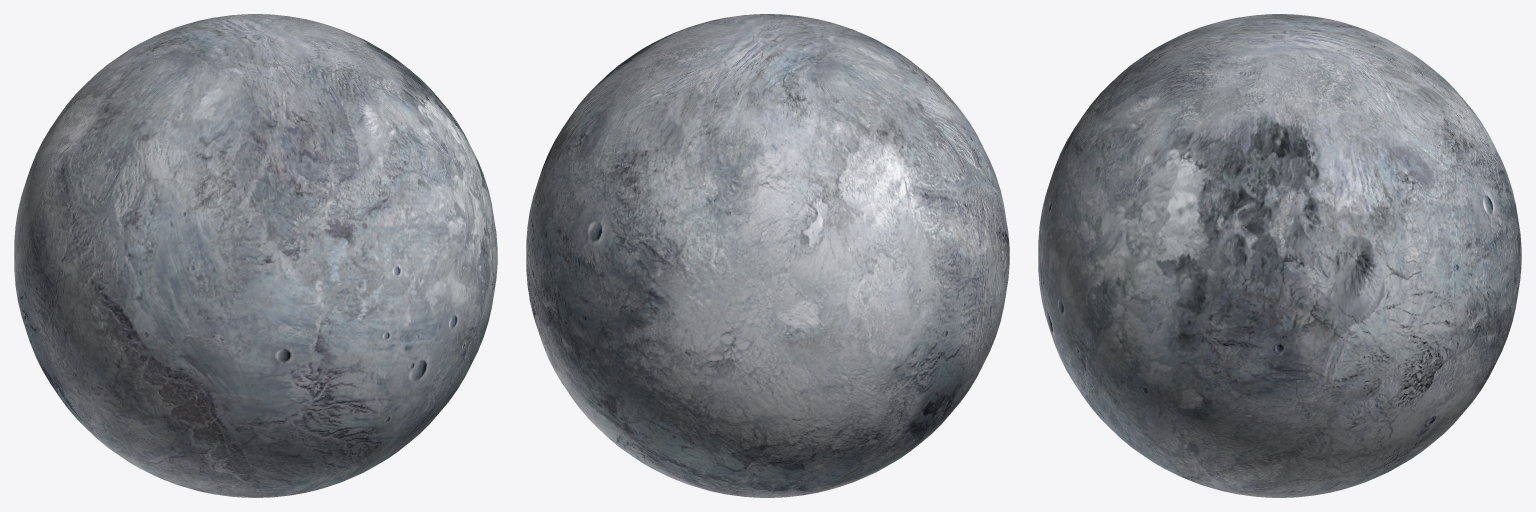
File: eris.glb
The picture shows the model from 3 angles, left to right: view 1: azimuth 30°, elevation 25°; view 2: azimuth 150°, elevation 25°; view 3: azimuth 270°, elevation 25°; orthographic projection.
Parts seen in each view (by area): view 1: Sphere; view 2: Sphere; view 3: Sphere.
Boxes of the visible parts, box(x1,y1,x2,y2) form: Sphere: box(14, 14, 497, 497); Sphere: box(526, 14, 1009, 497); Sphere: box(1038, 14, 1521, 497).
Size of the model in its own units: 2 by 2 by 2.
1 material, 1 textured.
